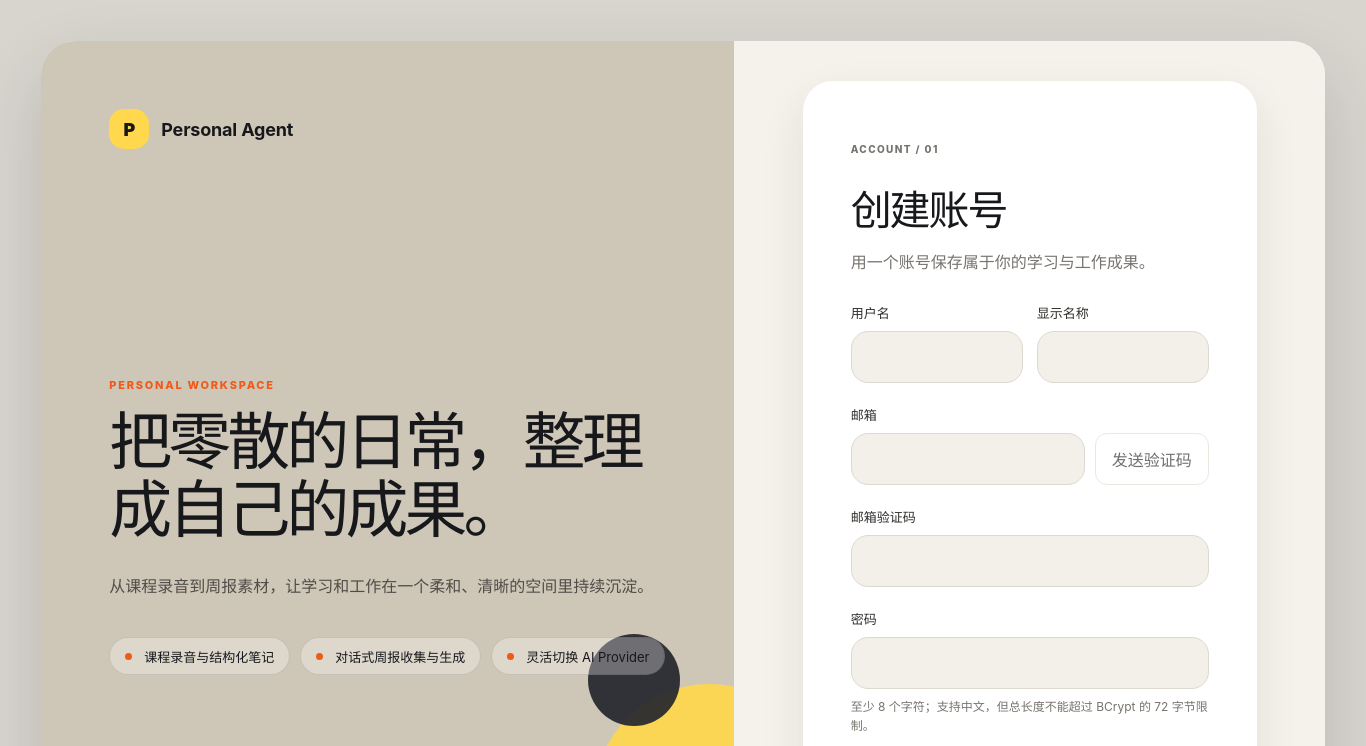
RegisterView › requests a verification code for the current email
Type "nini@example.com" into the field with id "email" at coordinates (968, 459), box left=851, top=433, right=1085, bottom=485
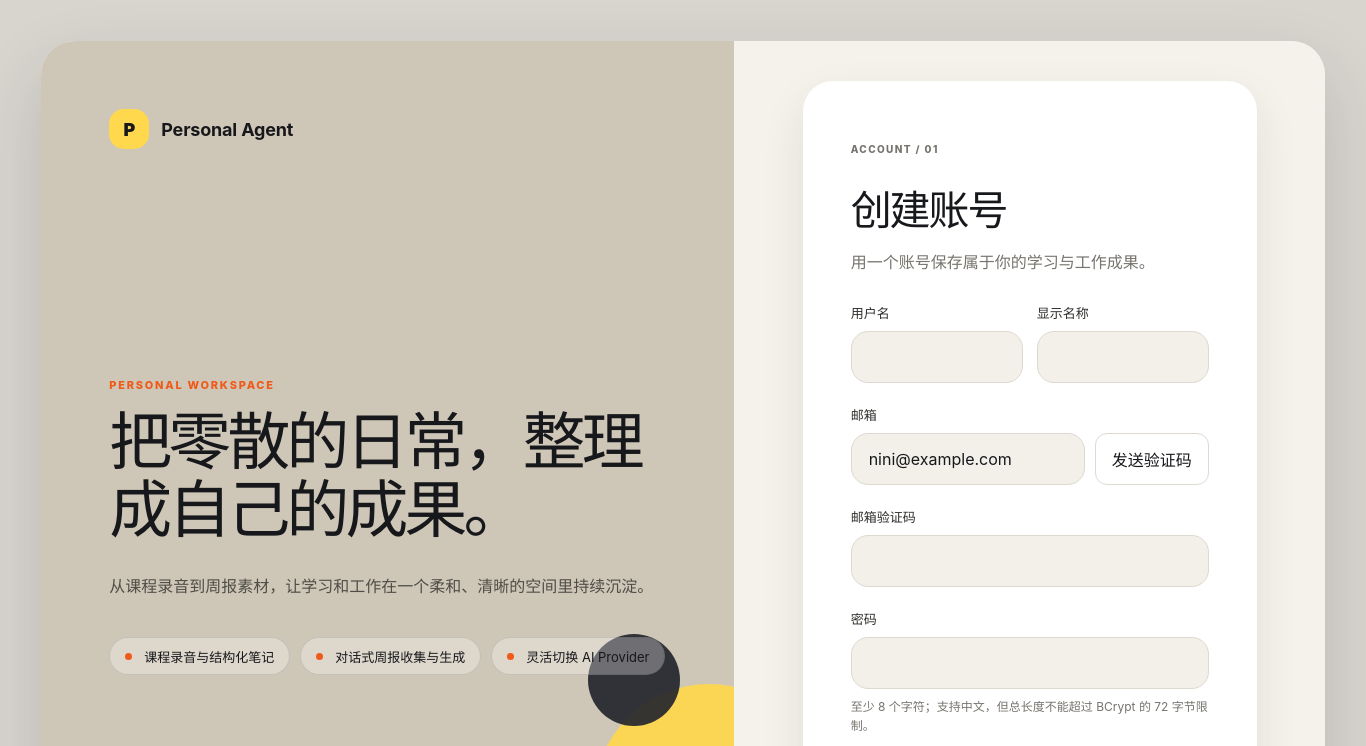
Click the button with test id "send-registration-code" at coordinates (1152, 459), box left=1095, top=433, right=1209, bottom=485
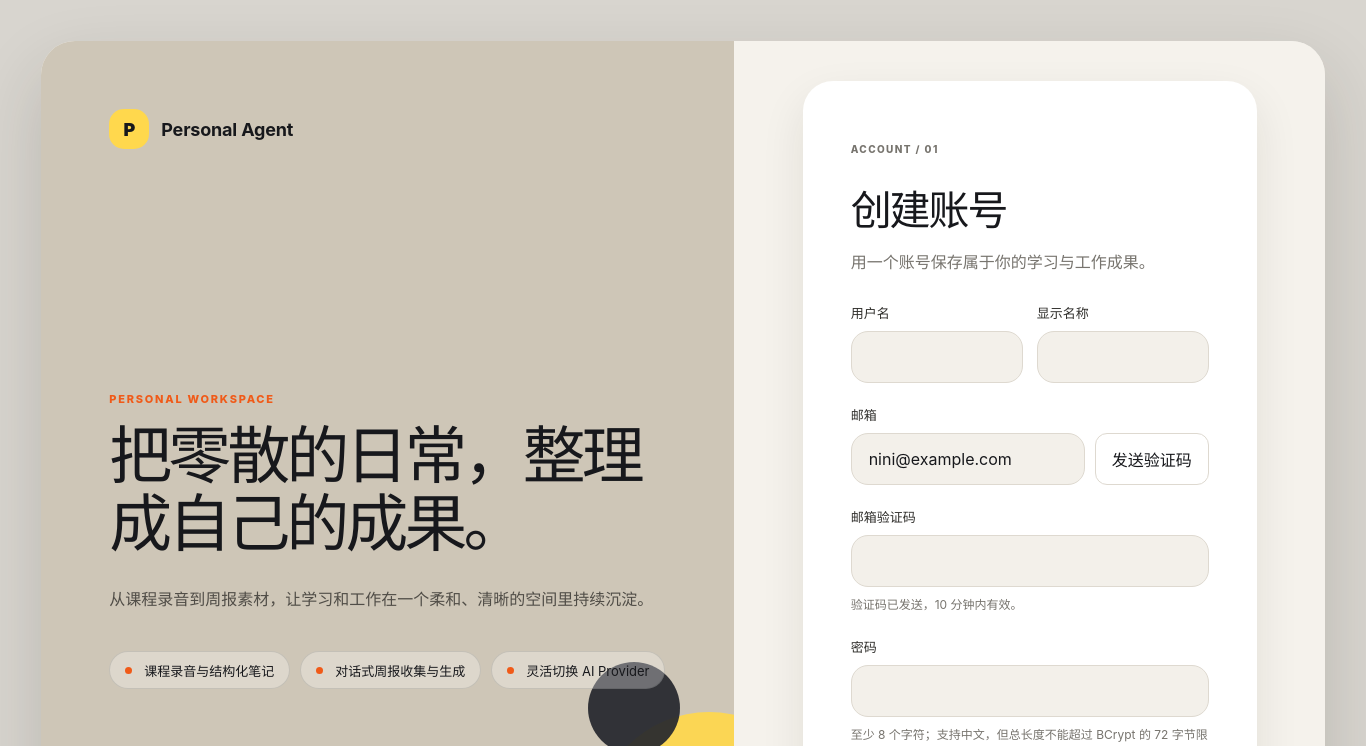
Expected: the text "验证码已发送" is shown, left=851, top=597, right=1022, bottom=612
